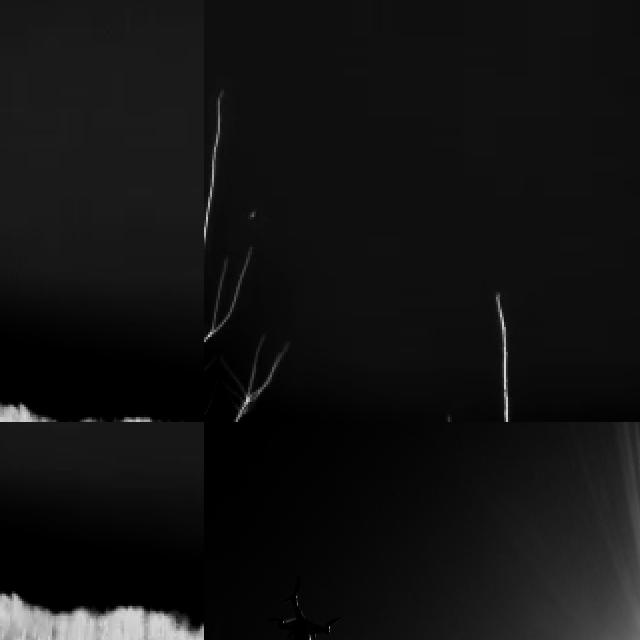0: (242, 203, 266, 231)
drone: (265, 578, 340, 640)
